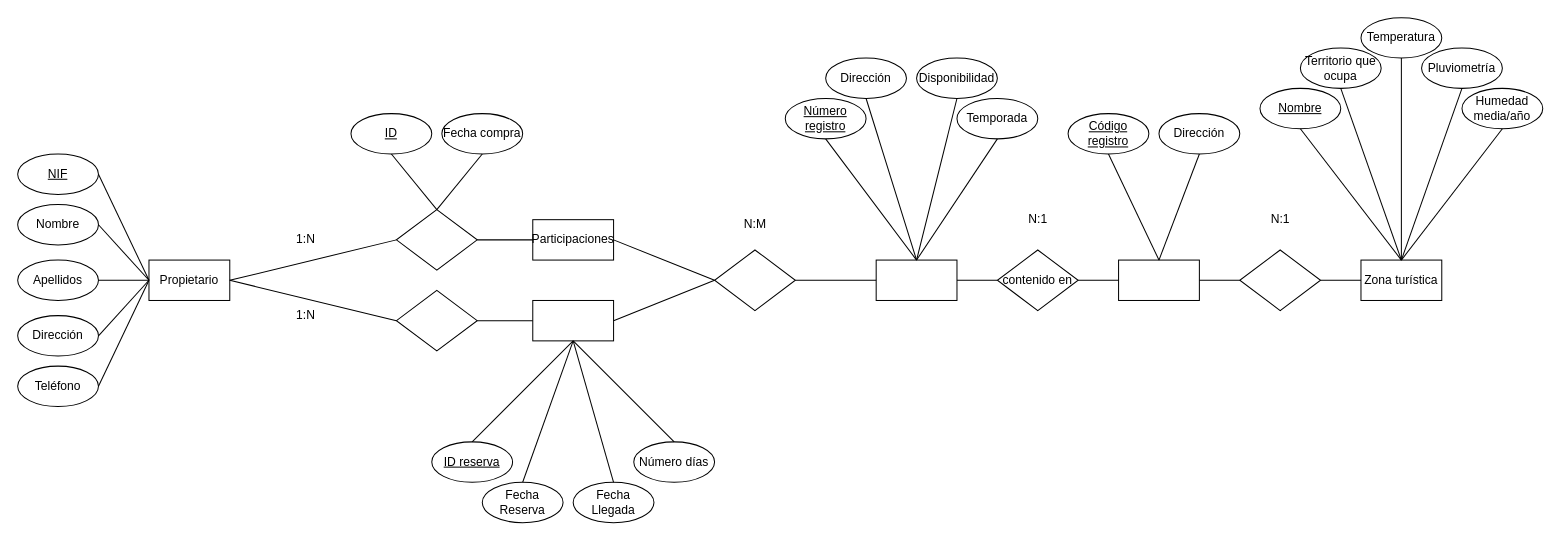
Some shapes in this 1560 by 540 pixel diagram are drawn without their labels. The shapes that lost their labels are listed below. From the top down, each one's box as (x1, y1, x2, y2) in pixels, then its label:
(395, 209, 477, 270): compra
(714, 249, 795, 311): sobre
(875, 259, 957, 300): Apartamento
(1118, 259, 1199, 300): Inmueble
(1239, 249, 1321, 311): ubicado en
(395, 289, 477, 351): realizan
(532, 299, 614, 341): Reservas
